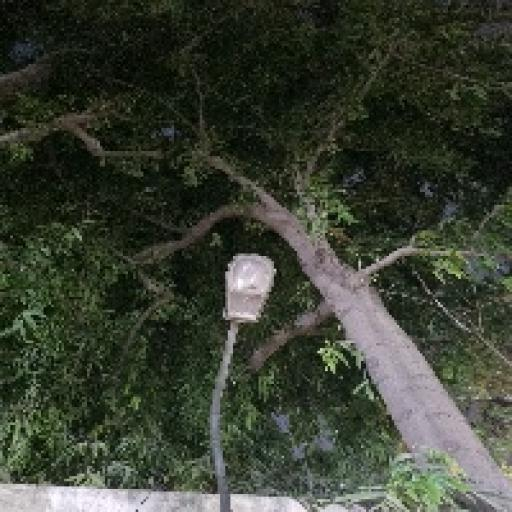Not Working: (204, 235, 296, 346)
